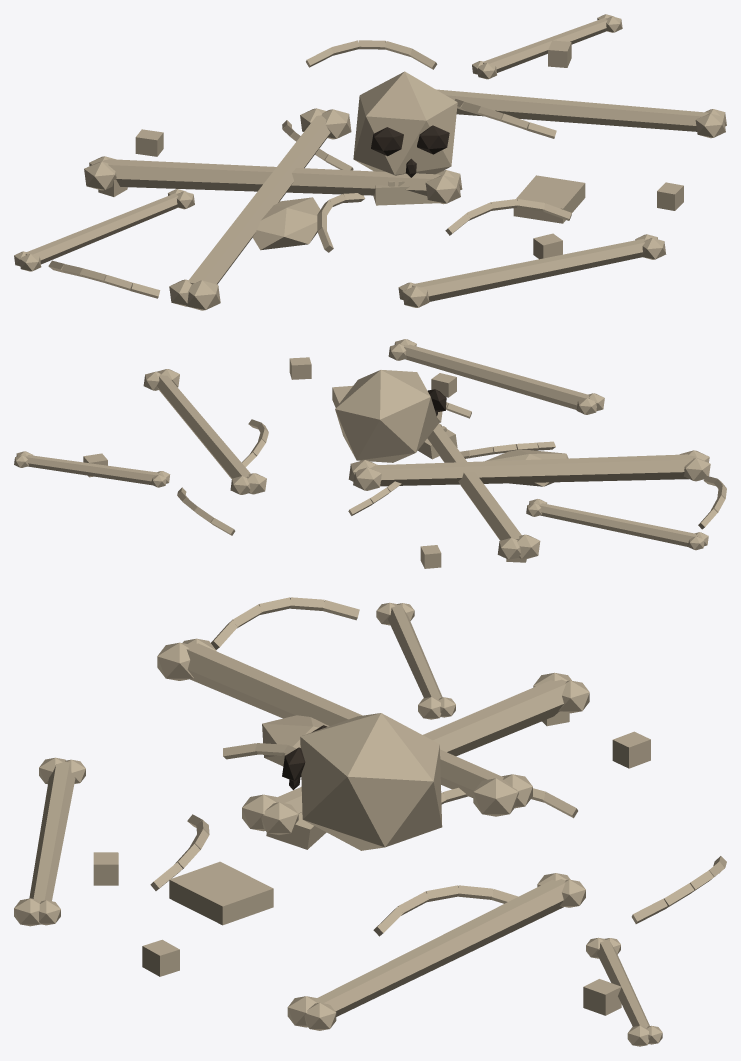
Rendered from BonePile.fbx.
3 renders of one model, top to bottom at view 1: azimuth 30°, elevation 25°; view 2: azimuth 150°, elevation 25°; view 3: azimuth 270°, elevation 25°, orthographic. The views are drawn at different scales.
Visible parts, largest first — view 1: BonePile; view 2: BonePile; view 3: BonePile.
Part boxes in pixels (box(x1,y1,x2,y2)): BonePile: box(14, 14, 726, 310); BonePile: box(14, 339, 726, 568); BonePile: box(14, 597, 726, 1046).
Bounding box in the file's own units: 1.23 × 0.1926 × 0.8569.
